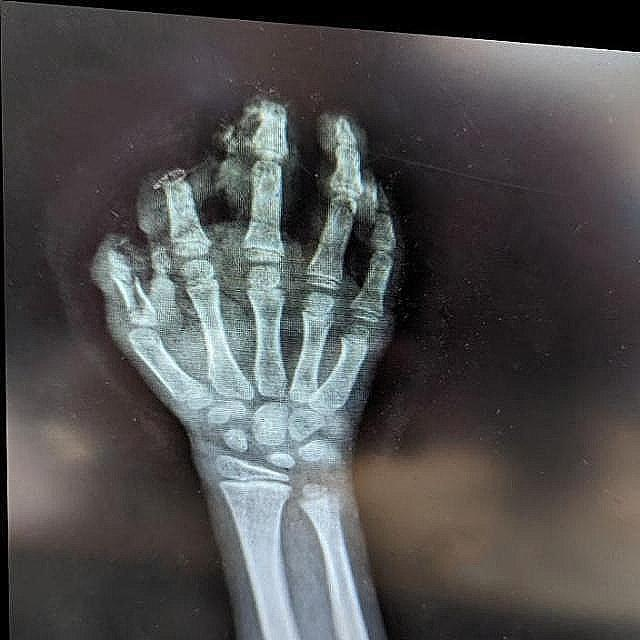bone: (226, 82, 301, 134), (142, 152, 202, 202), (102, 260, 154, 313)
